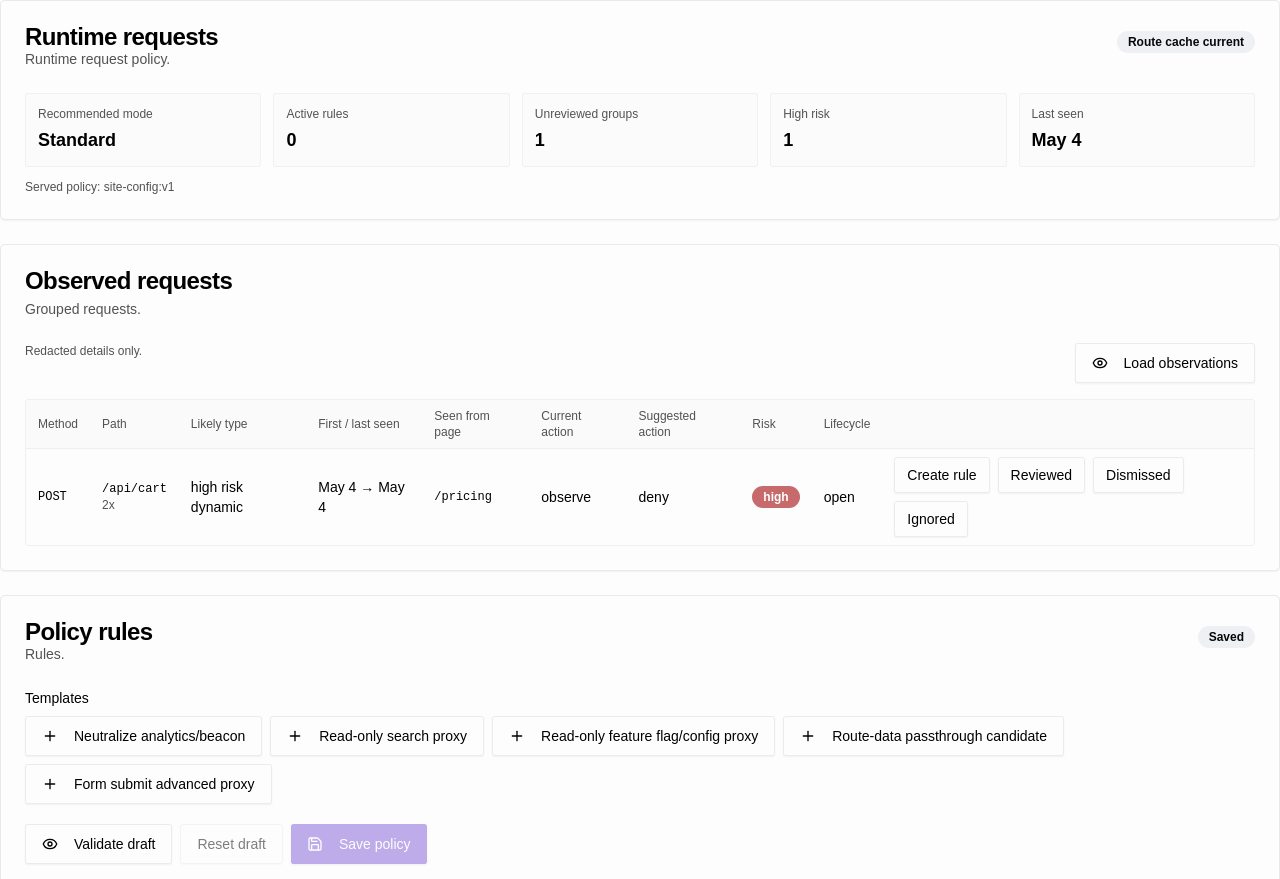
Test: RuntimeRequestsManager › creates a draft rule from an observation without saving it
This screenshot has width=1280, height=879.
Step 1. Click the button "Create rule" → (942, 475), box [894,457,990,493]
(page scrolled)
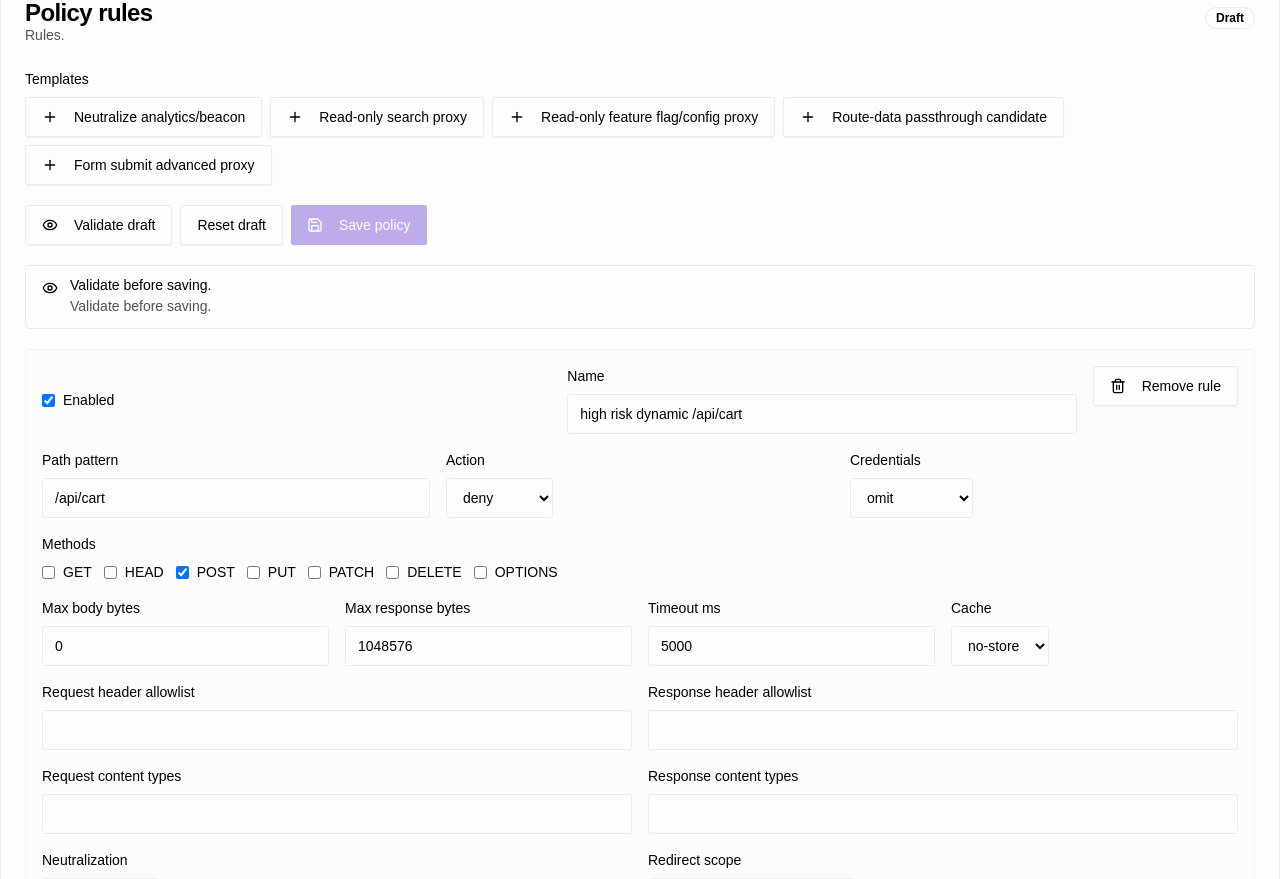
Check: the field showing "/api/cart" is shown, box [42,478,430,518]
